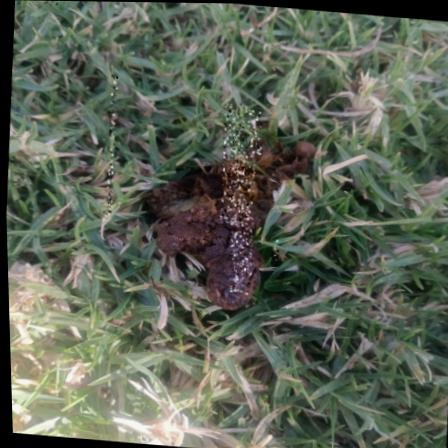dog-poop: (134, 120, 324, 313)
